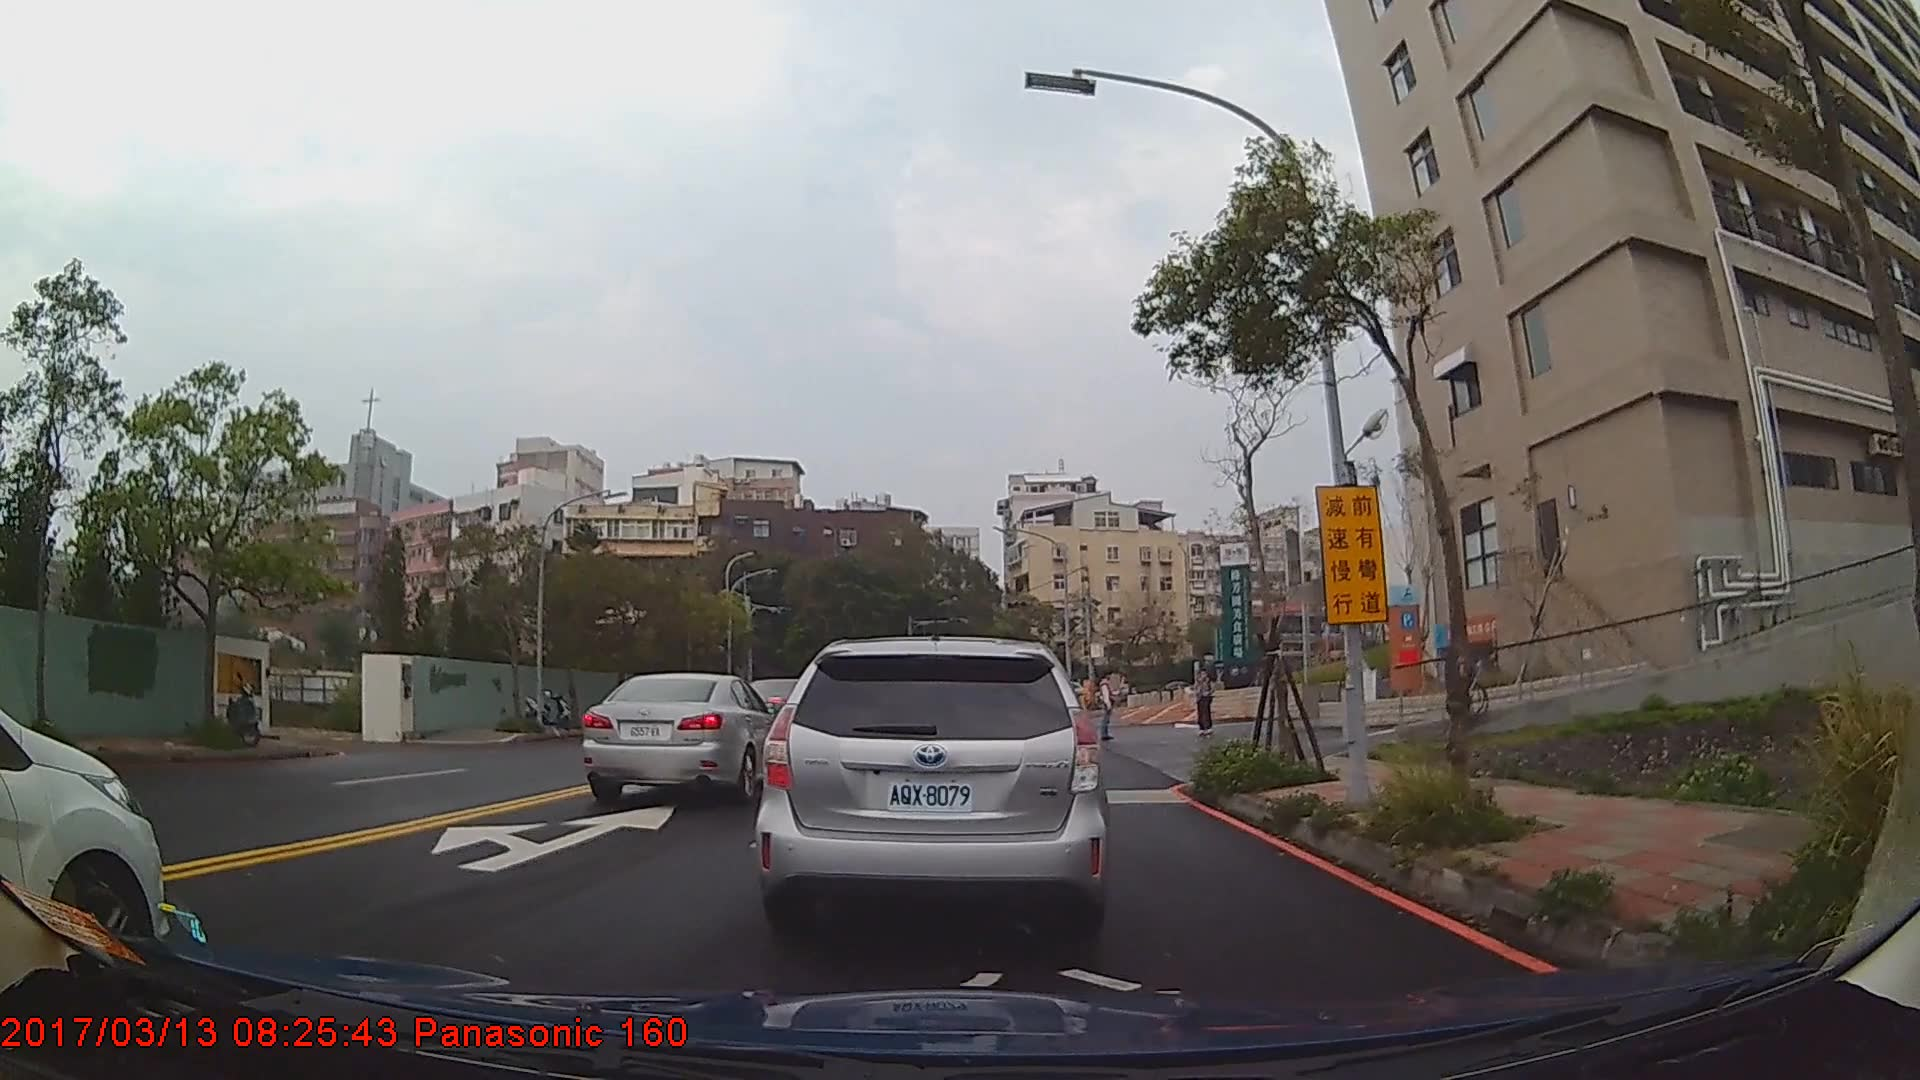pedestrian: (1097, 667, 1121, 743), (1195, 673, 1215, 736)
vehicle: (755, 636, 1111, 937), (0, 699, 169, 971), (578, 671, 785, 803)
